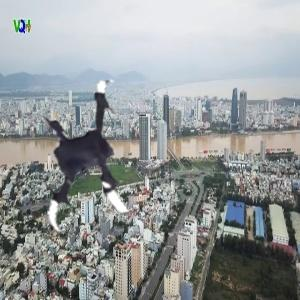drone: (13, 81, 179, 247)
